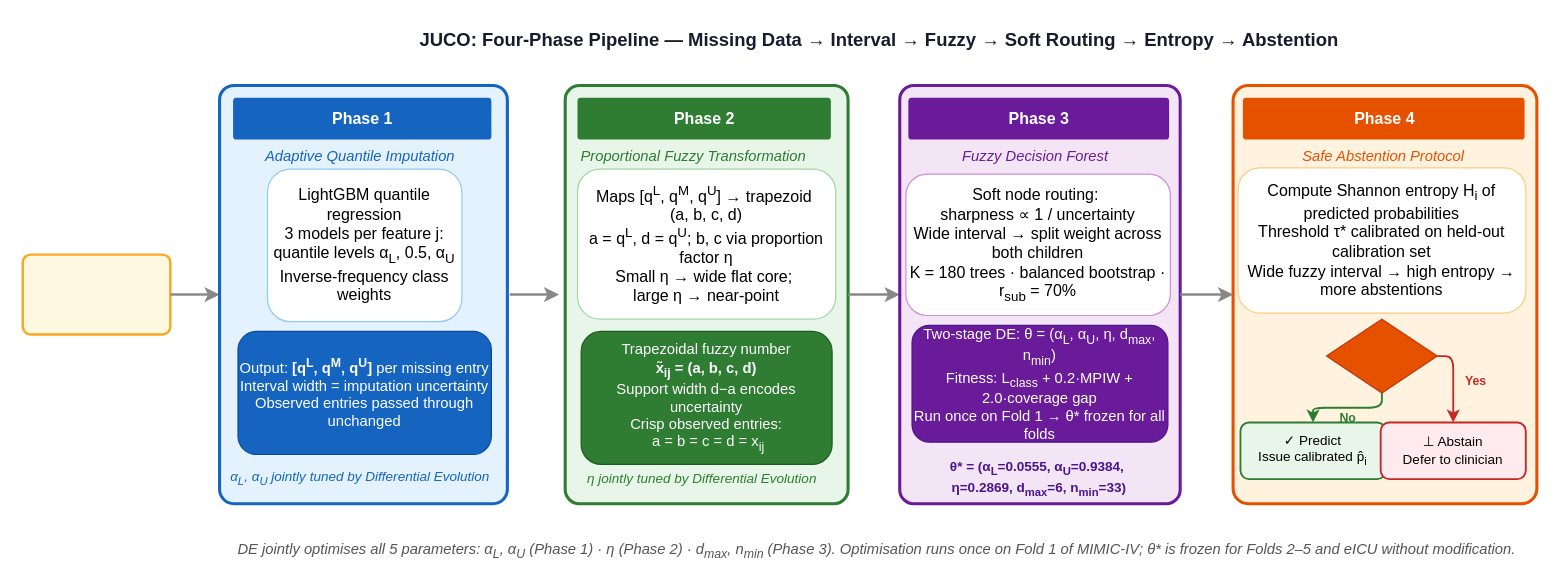
The diagram is 1560 pixels wide and 583 high, and some of its shapes have lost their labels. Each missing label, with the centre of its shape:
"EHR Input X ∈ (ℝ ∪ {NaN}) n×d MNAR missingness" goes at point (96, 294).
"H i > τ*?" goes at point (1381, 355).
